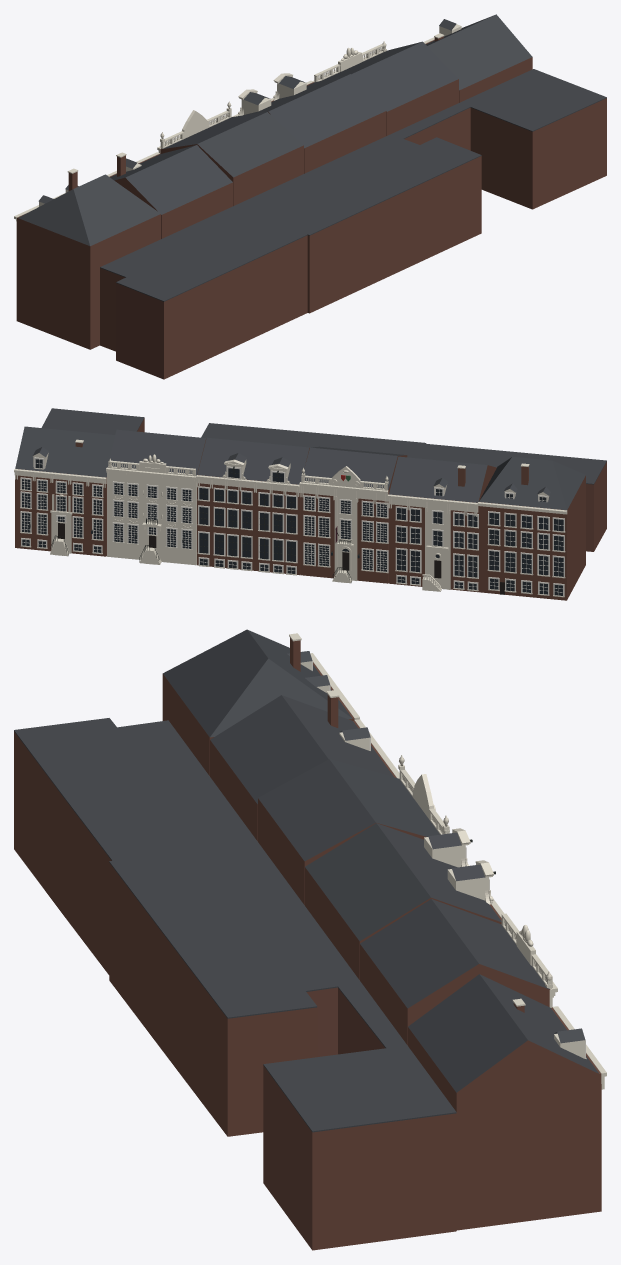
The model's file is waldorf-astoria-herengracht.glb.
The picture shows the model from 3 angles, top to bottom: view 1: azimuth 30°, elevation 25°; view 2: azimuth 150°, elevation 25°; view 3: azimuth 270°, elevation 25°; orthographic projection. The views are drawn at different scales.
Parts seen in each view (by area): view 1: waldorf-astoria-herengracht; view 2: waldorf-astoria-herengracht; view 3: waldorf-astoria-herengracht.
Boxes of the visible parts, bbox=[...] form: waldorf-astoria-herengracht: bbox=[14, 14, 606, 379]; waldorf-astoria-herengracht: bbox=[14, 408, 606, 600]; waldorf-astoria-herengracht: bbox=[14, 629, 606, 1250].
Size of the model in its own units: 95.86 by 21.75 by 54.64.
